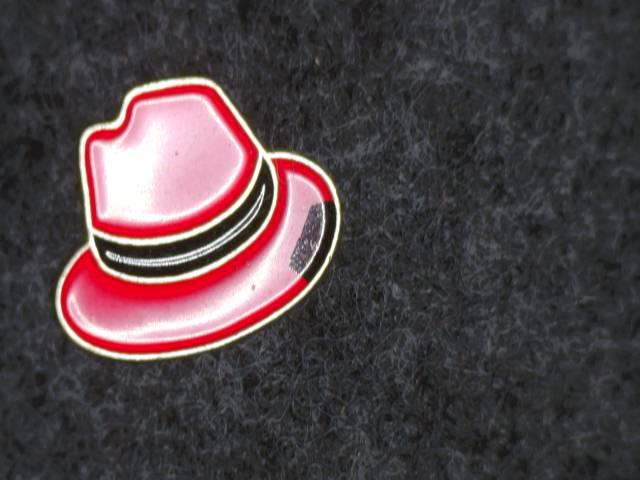Red-Hat: (29, 56, 391, 425)
Scratch: (283, 177, 366, 305)
